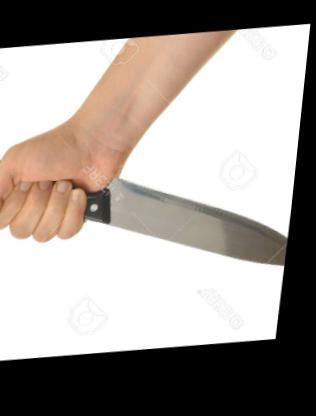knife: (0, 125, 301, 305)
